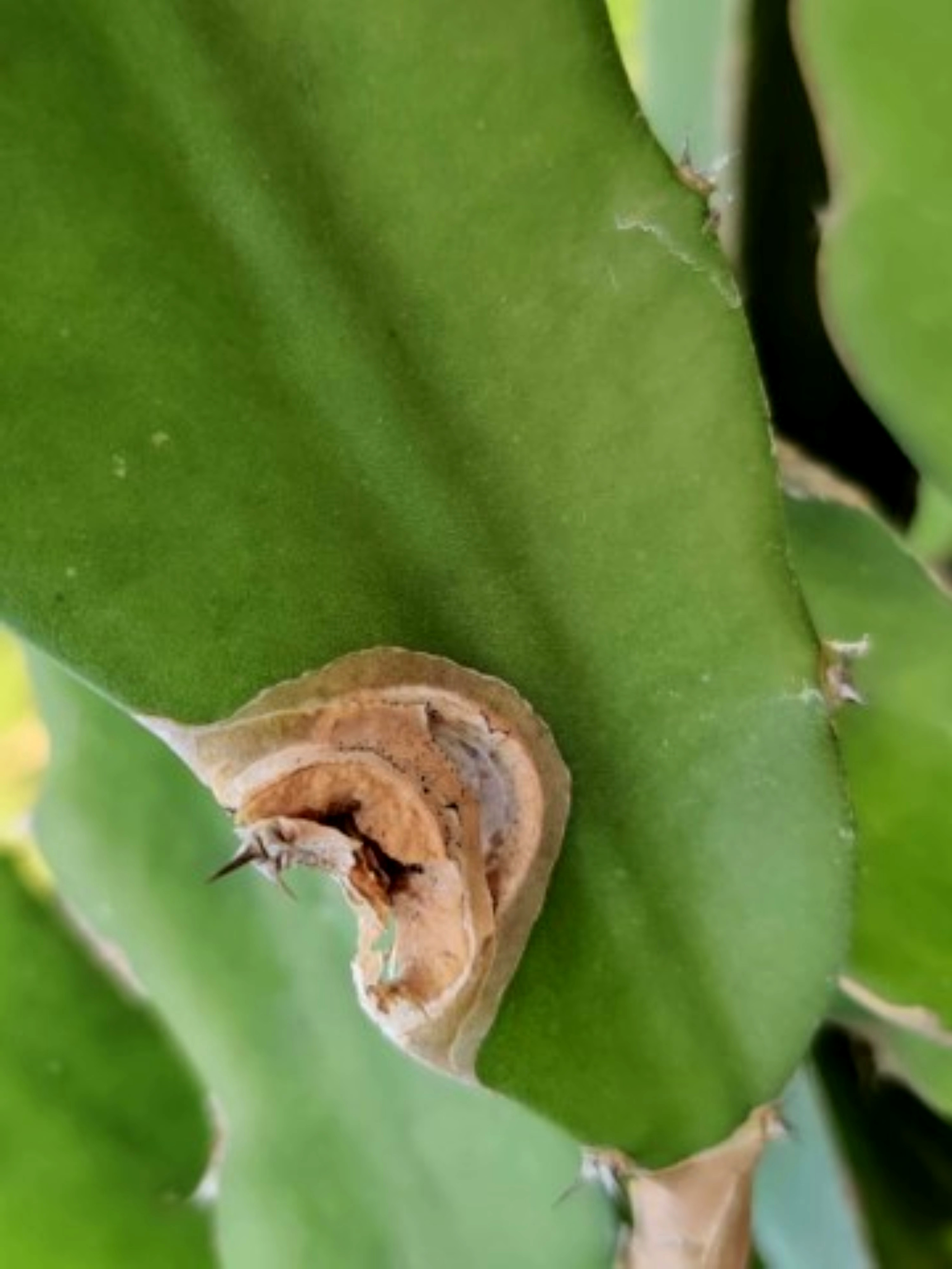stemcanker: (98, 562, 625, 1120)
